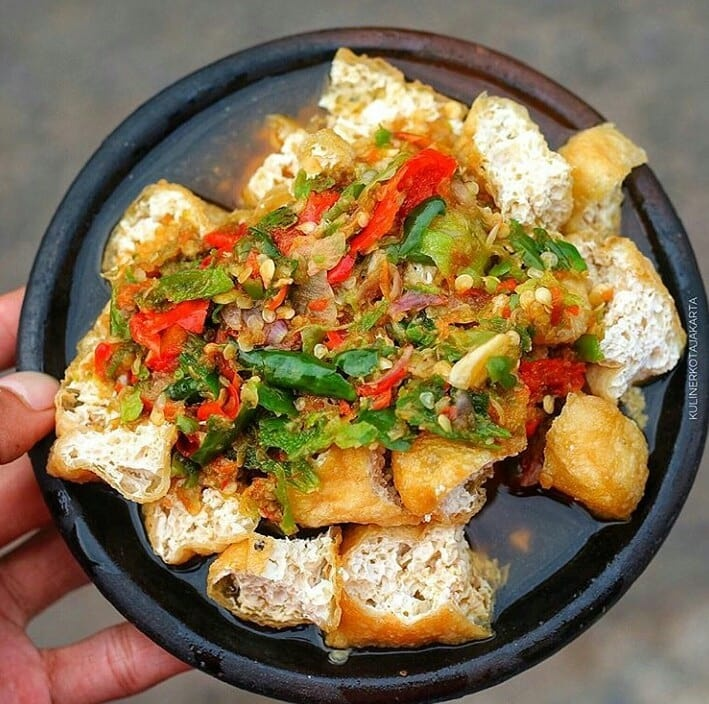tahu_gejrot: (51, 45, 688, 654)
